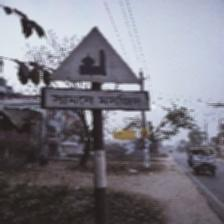Mosque in front: (44, 25, 145, 110)
